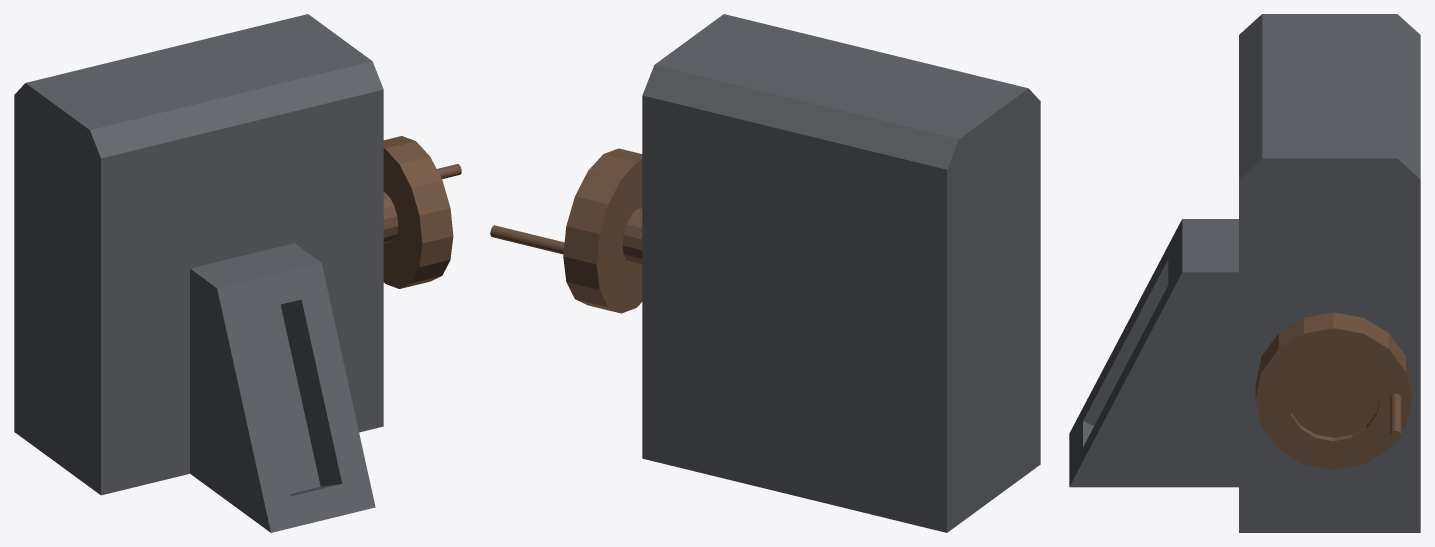
The model's file is Wheel.fbx.
3 views of the same model, side by side, from view 1: azimuth 30°, elevation 25°; view 2: azimuth 150°, elevation 25°; view 3: azimuth 270°, elevation 25° (orthographic). The views are drawn at different scales.
Visible parts, largest first — view 1: Cube, Circle; view 2: Cube, Circle; view 3: Cube, Circle.
Boxes of the visible parts, left/top/right/bottom form: Cube: left=14, top=14, right=383, bottom=532; Circle: left=383, top=136, right=461, bottom=288; Cube: left=642, top=14, right=1040, bottom=532; Circle: left=490, top=148, right=642, bottom=313; Cube: left=1069, top=14, right=1420, bottom=532; Circle: left=1255, top=312, right=1411, bottom=469.
Bounding box in the file's own units: 254 × 200 × 170.
